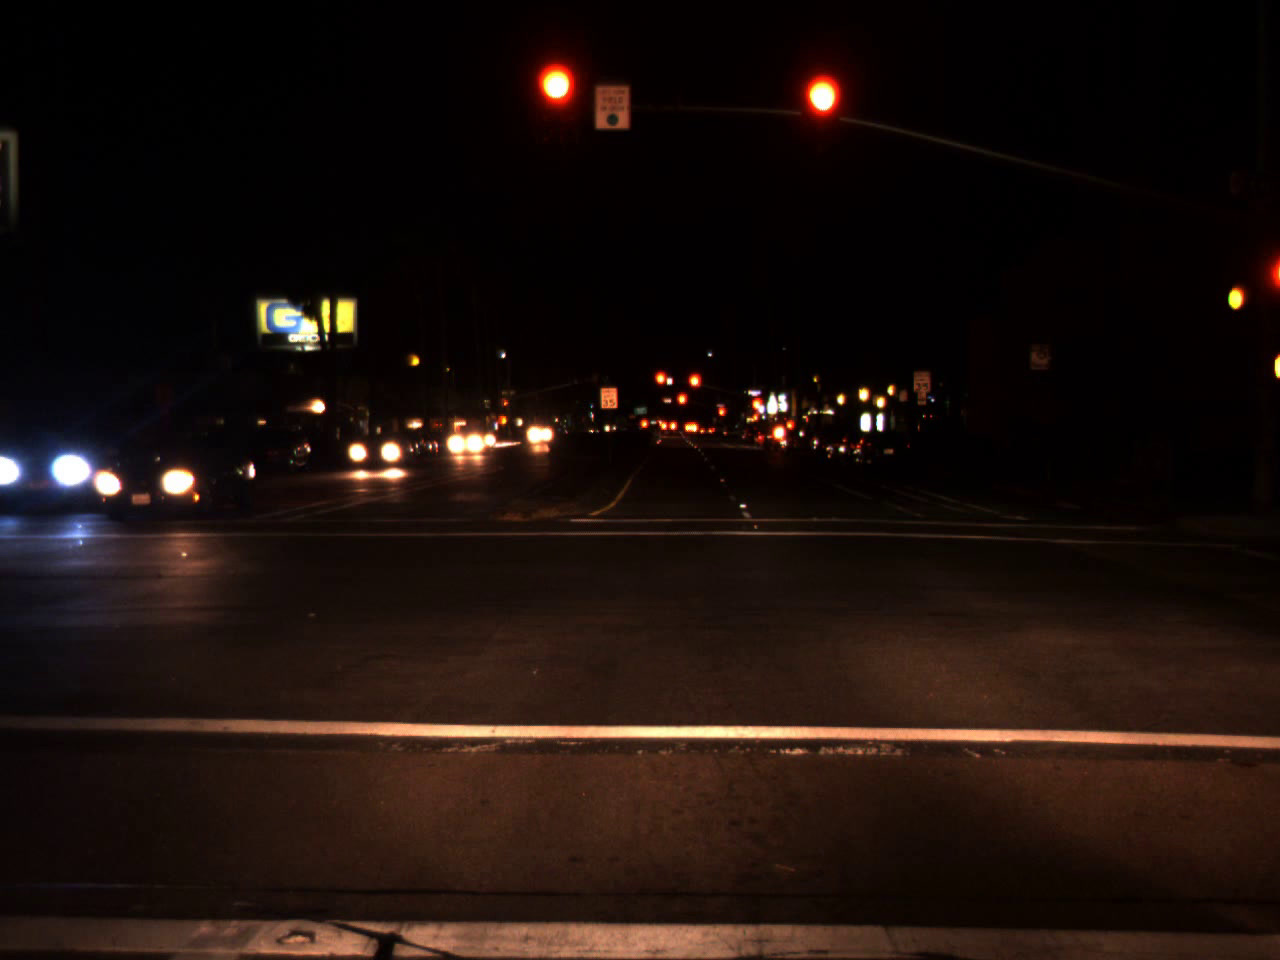stop: (536, 65, 577, 143), (801, 75, 840, 153), (686, 371, 703, 403), (653, 370, 671, 399), (676, 391, 688, 418), (750, 396, 763, 412), (717, 406, 726, 427), (503, 398, 509, 414)
